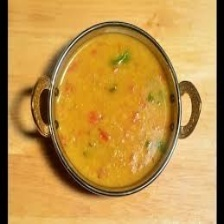dal: (50, 30, 180, 194)
